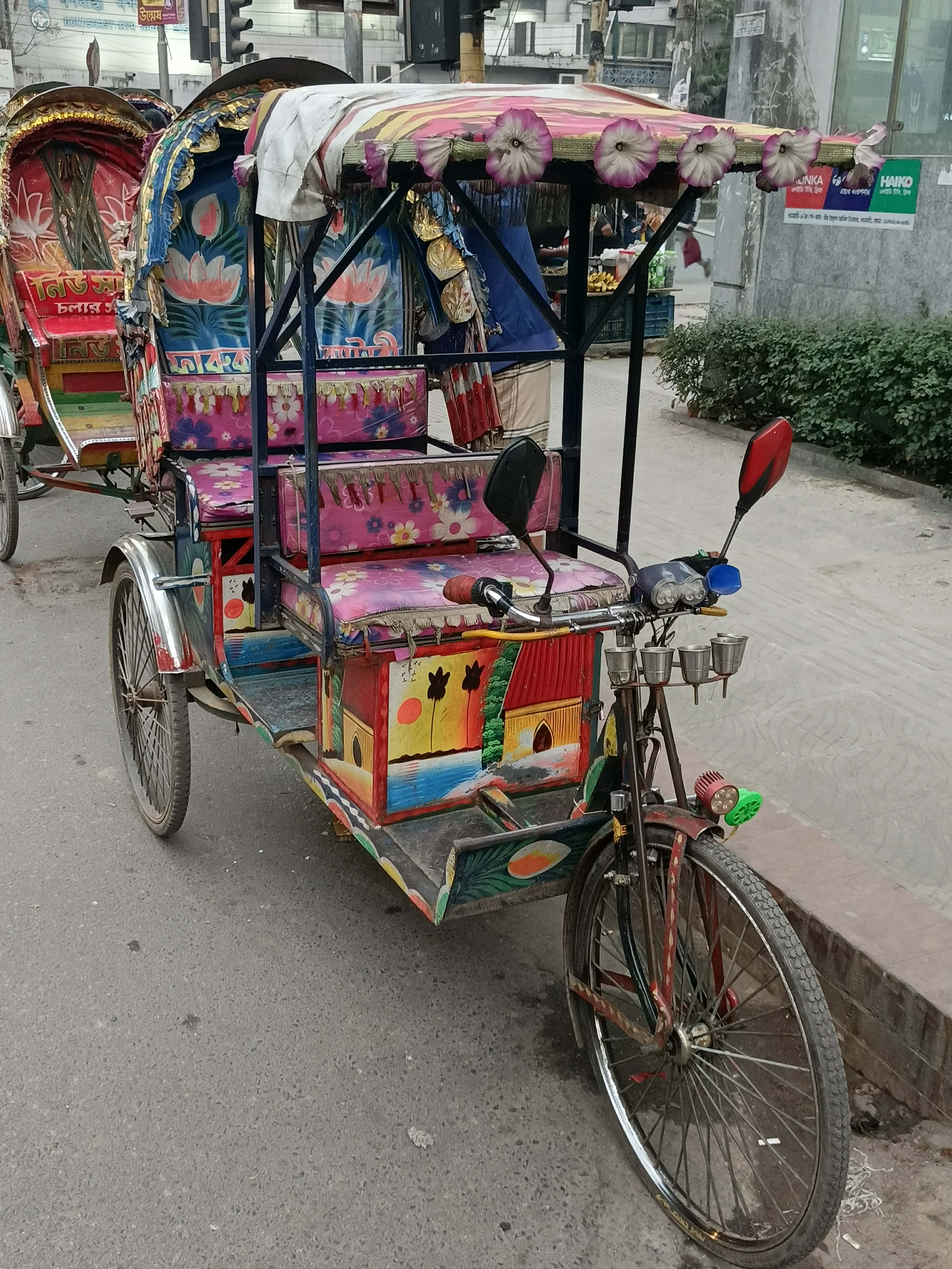auto-ricksaw: (125, 63, 905, 1269), (0, 82, 235, 508)
